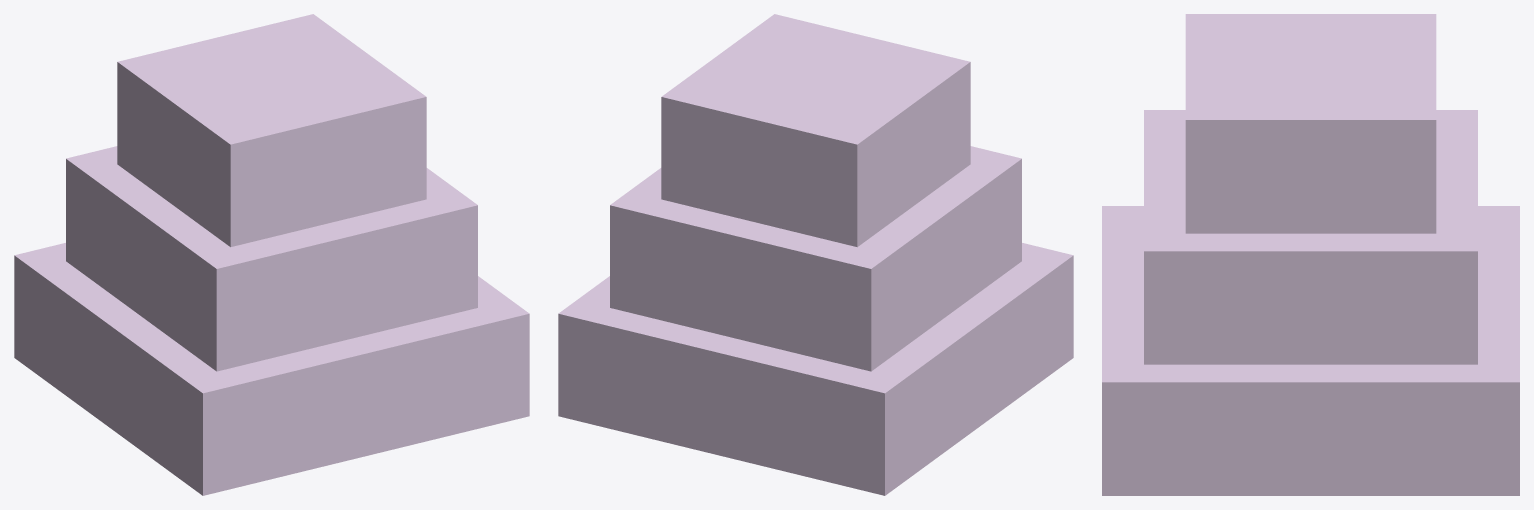
File: TPL-RES-TOWER.glb
3 renders of one model, left to right at view 1: azimuth 30°, elevation 25°; view 2: azimuth 150°, elevation 25°; view 3: azimuth 270°, elevation 25°, orthographic. The views are drawn at different scales.
Parts seen in each view (by area): view 1: Residential Tower; view 2: Residential Tower; view 3: Residential Tower.
Boxes of the visible parts, x1,y1,x2,y2 form: Residential Tower: (14,14,529,495); Residential Tower: (558,14,1073,495); Residential Tower: (1102,14,1519,495).
Bounding box in the file's own units: 22 × 19.8 × 22.
